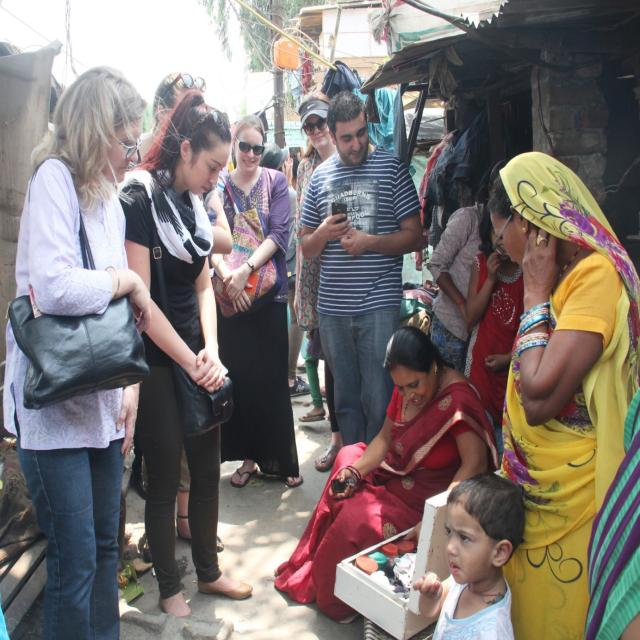body: (0, 66, 160, 640), (113, 86, 258, 627), (486, 145, 639, 639), (271, 323, 502, 629), (117, 63, 238, 563), (299, 89, 425, 446), (212, 113, 306, 489), (292, 90, 346, 473), (410, 468, 530, 640), (462, 197, 526, 473), (427, 167, 507, 373), (582, 399, 640, 640), (258, 140, 311, 398), (414, 113, 495, 273), (292, 99, 308, 408)
